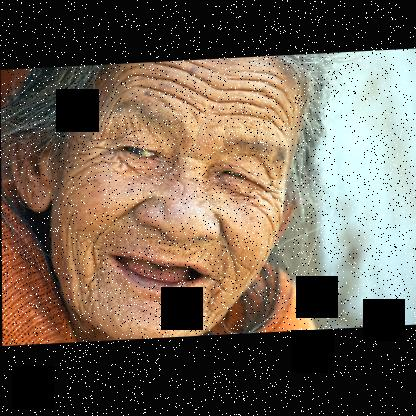Female: (9, 57, 296, 345)
